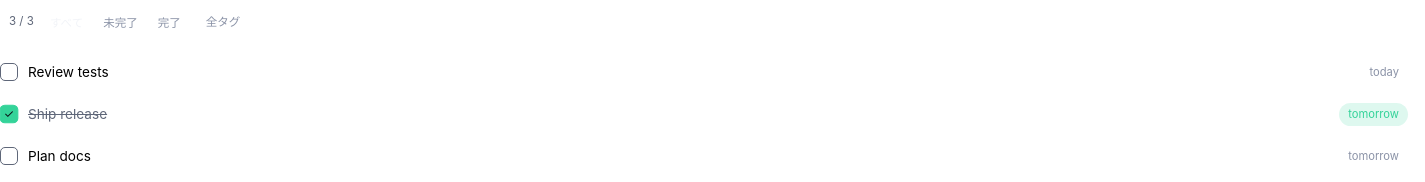
Test: TodoListView › filters todos by completion state
Click the button "未完了" at (120,22), box [95,9,146,35]
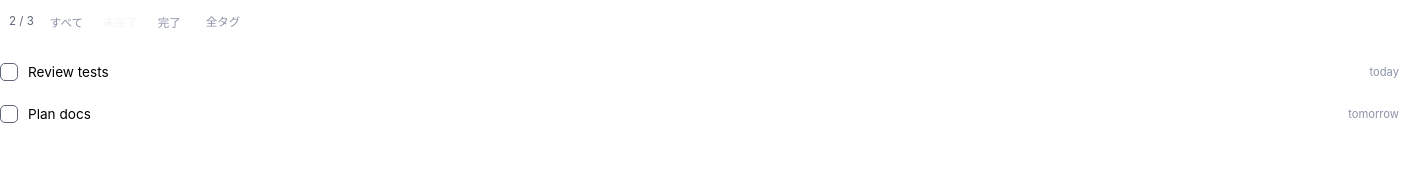
expect the text "Review tests" is shown: met, box [28,64,109,80]
expect the text "2 / 3" is shown: met, box [9,13,34,31]
expect the text "Ship release" is gone: met
